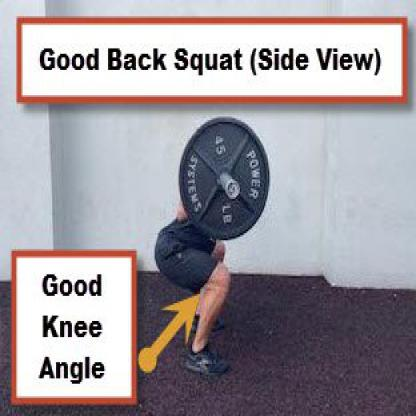Barbell: (177, 113, 274, 242)
